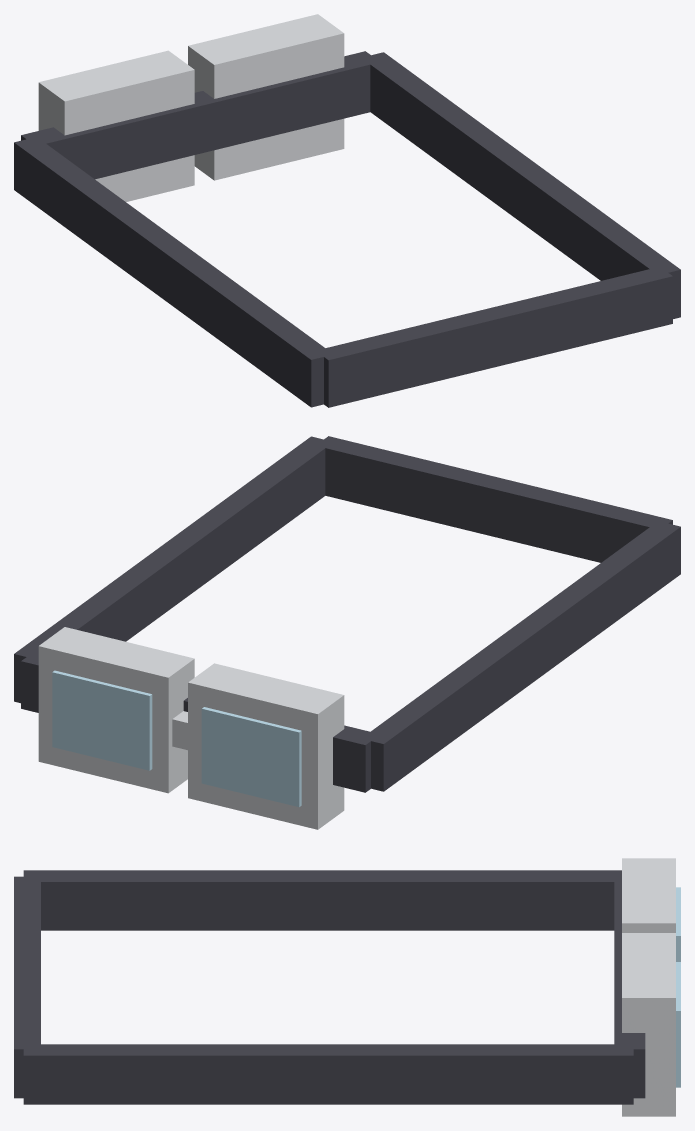
File: oculos_protecao_testa.glb
3 renders of one model, top to bottom at view 1: azimuth 30°, elevation 25°; view 2: azimuth 150°, elevation 25°; view 3: azimuth 270°, elevation 25°, orthographic. The views are drawn at different scales.
Parts seen in each view (by area): view 1: oculos_protecao_testa; view 2: oculos_protecao_testa; view 3: oculos_protecao_testa.
Boxes of the visible parts, x1,y1,x2,y2 form: oculos_protecao_testa: (14,14,680,407); oculos_protecao_testa: (14,436,680,829); oculos_protecao_testa: (14,858,680,1116).
Bounding box in the file's own units: 0.569 × 0.17 × 0.866.
